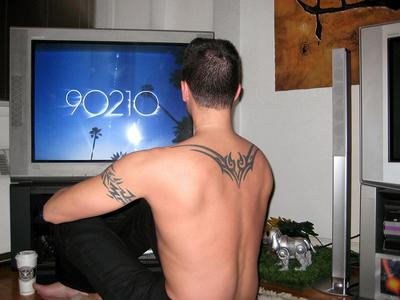person: (33, 39, 277, 300)
